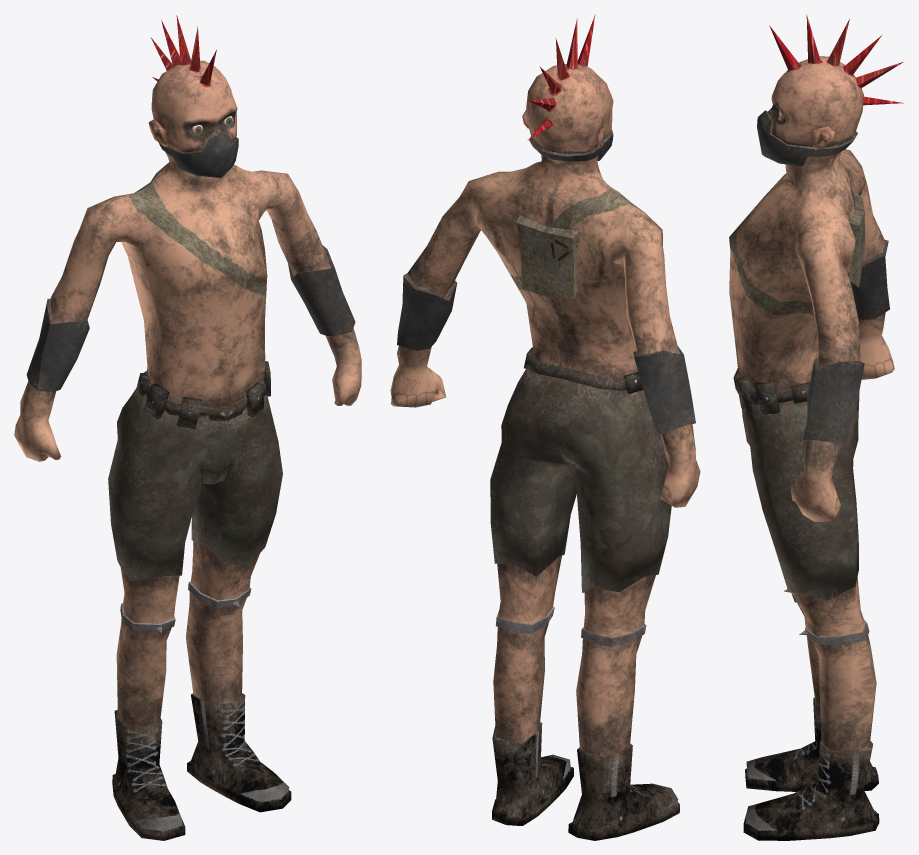
The model's file is Anim_ataque_d1_npc2.0035.obj.
3 views of the same model, side by side, from view 1: azimuth 30°, elevation 25°; view 2: azimuth 150°, elevation 25°; view 3: azimuth 270°, elevation 25° (orthographic). The views are drawn at different scales.
Visible parts, largest first — view 1: polySurface1; view 2: polySurface1; view 3: polySurface1.
Part boxes in pixels (x1=…): polySurface1: x1=14, y1=15, x2=361, y2=840; polySurface1: x1=390, y1=15, x2=700, y2=840; polySurface1: x1=729, y1=14, x2=903, y2=840.
Bounding box in the file's own units: 4.38 × 10.23 × 2.05.
